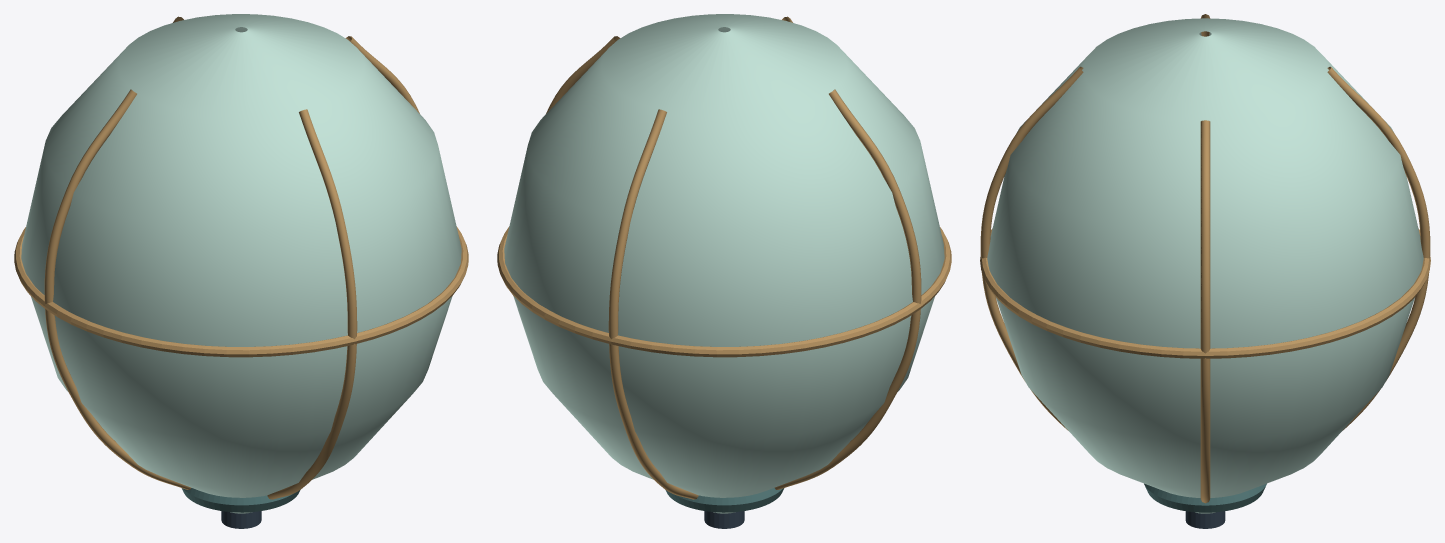
Rendered from water-balloon.glb.
3 views of the same model, side by side, from view 1: azimuth 30°, elevation 25°; view 2: azimuth 150°, elevation 25°; view 3: azimuth 270°, elevation 25° (orthographic).
Parts seen in each view (by area): view 1: Water_bladder, Balloon_equator, Balloon_harness.002, Balloon_harness.003, Lift_engine, Balloon_harness, Water_valve; view 2: Water_bladder, Balloon_equator, Balloon_harness.002, Balloon_harness.001, Lift_engine, Balloon_harness, Water_valve; view 3: Water_bladder, Balloon_equator, Balloon_harness, Balloon_harness.001, Balloon_harness.003, Lift_engine, Water_valve.
Part boxes in pixels (<box>): Water_bladder: <box>21,14,461,513</box>; Balloon_equator: <box>14,226,468,357</box>; Balloon_harness.002: <box>44,89,191,489</box>; Balloon_harness.003: <box>267,109,357,499</box>; Lift_engine: <box>181,488,300,512</box>; Balloon_harness: <box>345,36,419,113</box>; Water_valve: <box>221,511,261,528</box>; Water_bladder: <box>504,14,944,513</box>; Balloon_equator: <box>497,226,951,357</box>; Balloon_harness.002: <box>774,89,921,489</box>; Balloon_harness.001: <box>608,109,698,499</box>; Lift_engine: <box>665,488,784,512</box>; Balloon_harness: <box>546,36,620,113</box>; Water_valve: <box>704,511,744,528</box>; Water_bladder: <box>987,18,1423,513</box>; Balloon_equator: <box>980,228,1430,358</box>; Balloon_harness: <box>1200,120,1210,503</box>; Balloon_harness.001: <box>1327,66,1430,430</box>; Balloon_harness.003: <box>980,66,1083,430</box>; Lift_engine: <box>1144,483,1266,512</box>; Water_valve: <box>1185,511,1225,528</box>.
Bounding box in the file's own units: 1.48 × 1.76 × 1.48.
